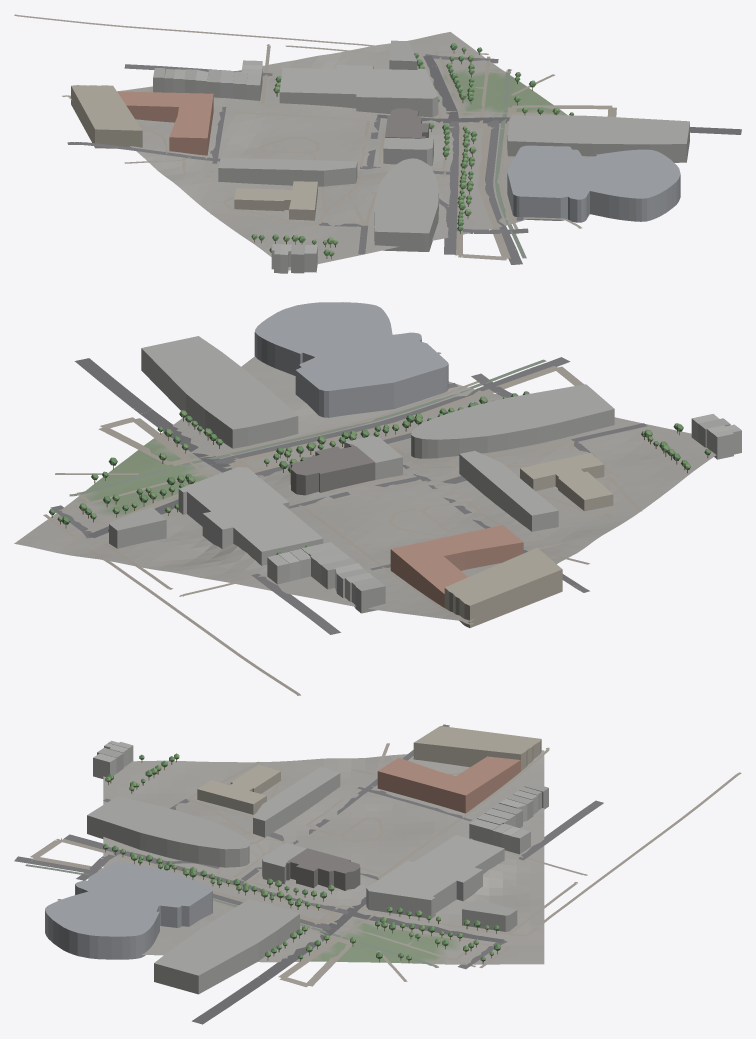
The model's file is tile_-5_-3.glb.
3 views of the same model, one above another, from view 1: azimuth 30°, elevation 25°; view 2: azimuth 150°, elevation 25°; view 3: azimuth 270°, elevation 25° (orthographic). The views are drawn at different scales.
Parts seen in each view (by area): view 1: buildings, terrain, roads, props; view 2: buildings, terrain, roads, props; view 3: buildings, terrain, roads, props.
Boxes of the visible parts, bbox=[...] form: buildings: bbox=[71, 40, 689, 273]; terrain: bbox=[68, 32, 593, 270]; roads: bbox=[14, 14, 741, 264]; props: bbox=[251, 43, 573, 259]; buildings: bbox=[109, 302, 741, 627]; terrain: bbox=[14, 356, 716, 621]; roads: bbox=[43, 352, 647, 695]; props: bbox=[49, 391, 711, 554]; buildings: bbox=[45, 726, 548, 994]; terrain: bbox=[103, 750, 544, 964]; roads: bbox=[14, 724, 741, 1024]; props: bbox=[103, 753, 500, 963].
Size of the model in its own units: 370 by 26.61 by 423.
